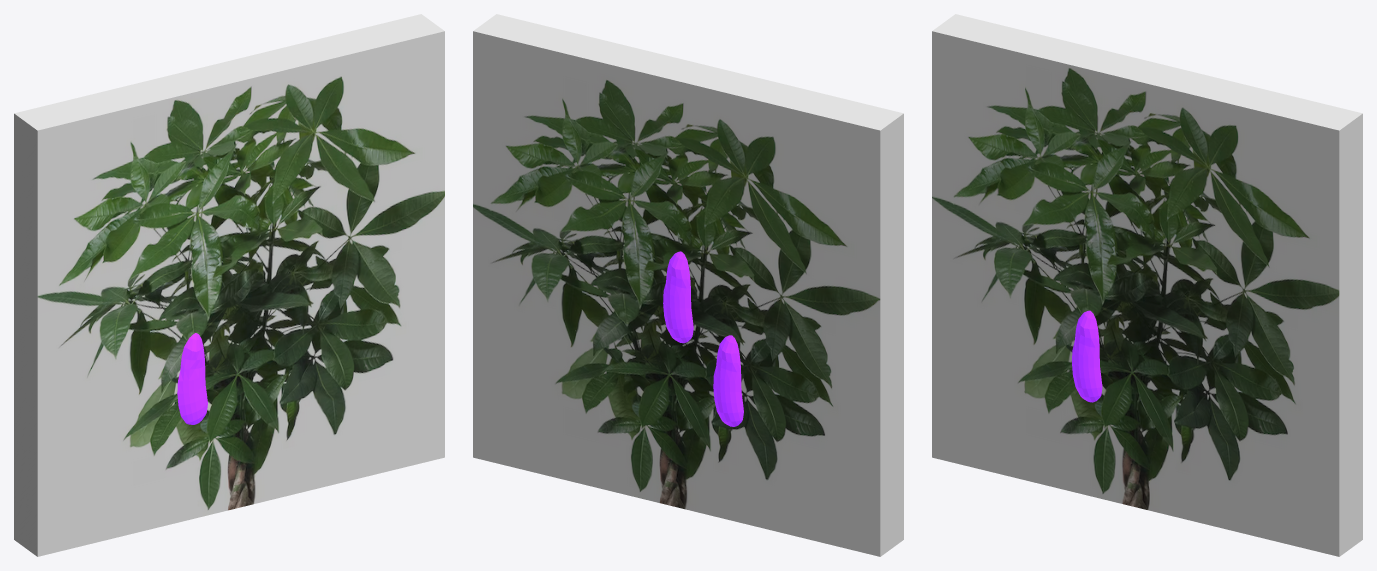
The model's file is eggplant_2.dae.
The picture shows the model from 3 angles, left to right: view 1: azimuth 30°, elevation 25°; view 2: azimuth 150°, elevation 25°; view 3: azimuth 330°, elevation 25°; orthographic projection.
Parts seen in each view (by area): view 1: Cube, Sphere.001; view 2: Cube, Sphere.002, Sphere; view 3: Cube, Sphere.001.
Boxes of the visible parts, x1=… form: Cube: x1=14, y1=14, x2=444, y2=556; Sphere.001: x1=177, y1=333, x2=207, y2=424; Cube: x1=473, y1=14, x2=903, y2=556; Sphere.002: x1=713, y1=335, x2=743, y2=426; Sphere: x1=663, y1=251, x2=693, y2=343; Cube: x1=932, y1=14, x2=1362, y2=556; Sphere.001: x1=1072, y1=310, x2=1102, y2=402.
Size of the model in its own units: 1 by 0.1301 by 1.
2 materials, 1 textured.
